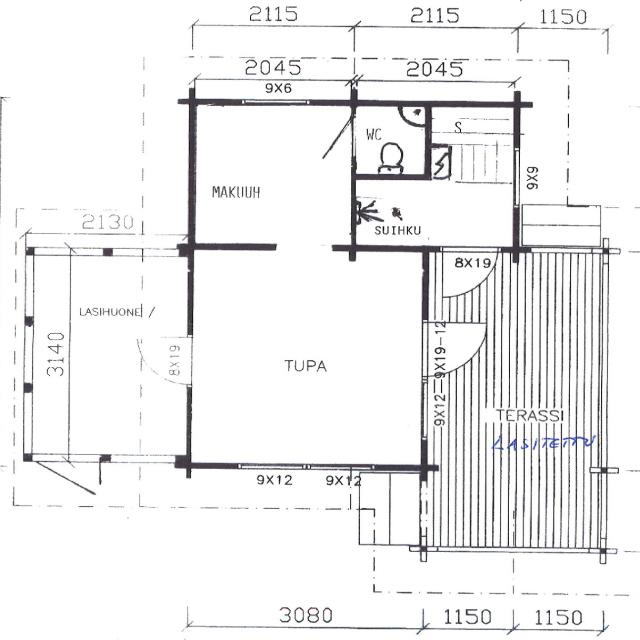door: (36, 455, 100, 520), (422, 322, 489, 376), (442, 246, 497, 301), (134, 337, 192, 384), (306, 117, 357, 156)
